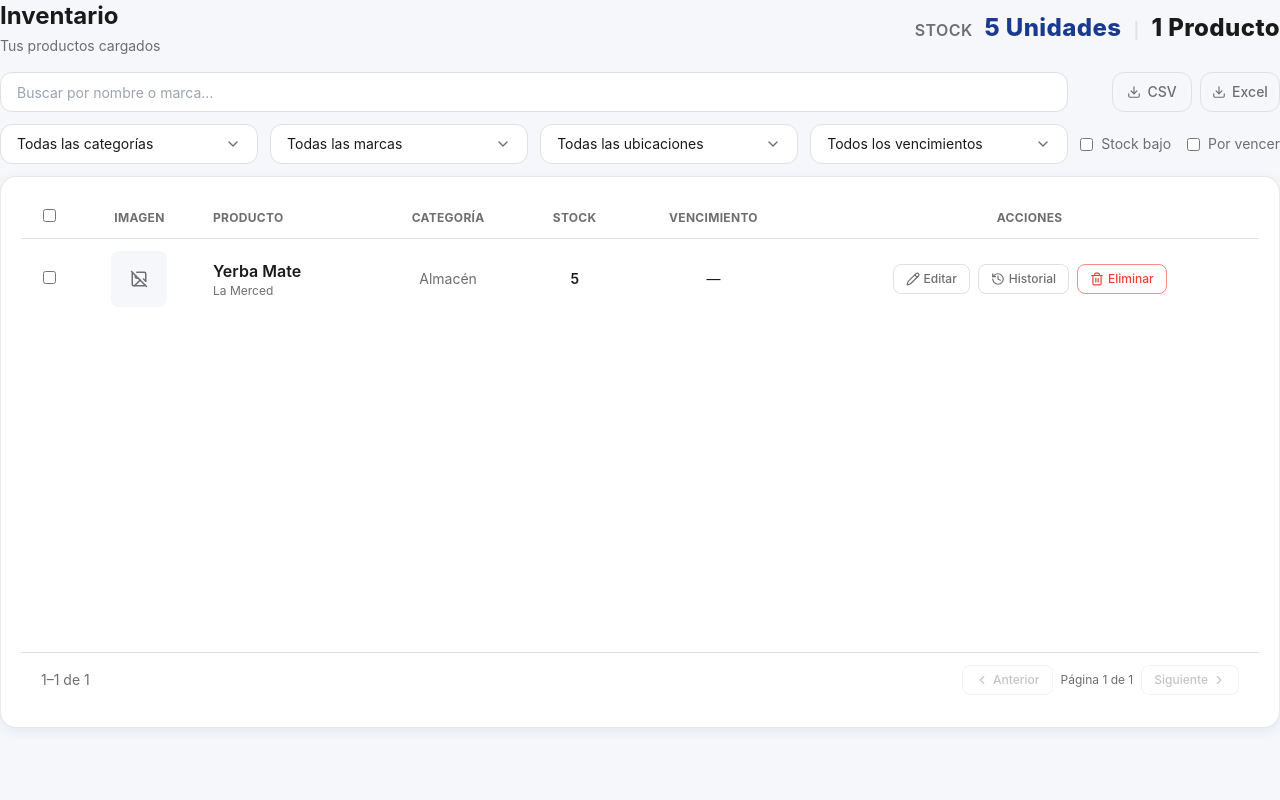
Test: MyProducts › al tocar el nombre abre la información del producto, con sus accesos
Click the button with test id "product-open-1": (257, 271) left=213, top=259, right=301, bottom=283
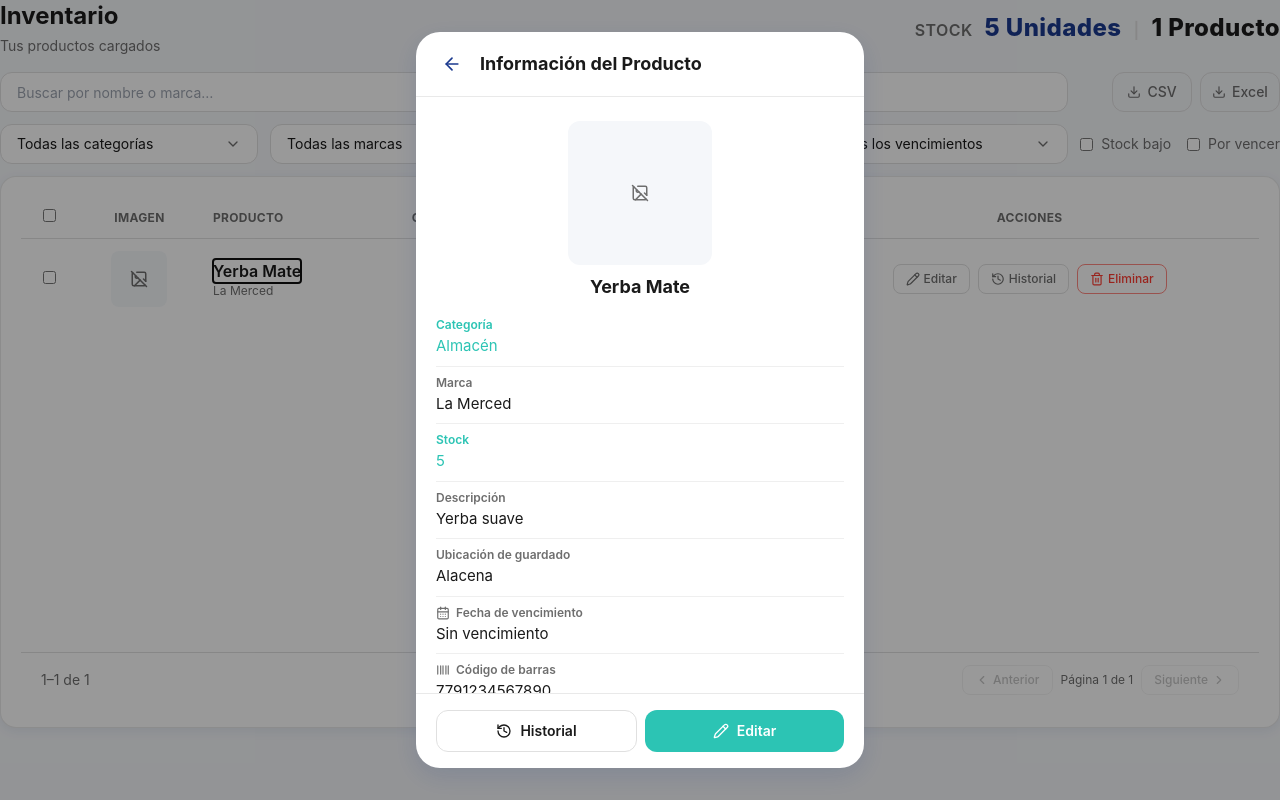
Result: the heading with test id "product-detail-name" reads "Yerba Mate" at left=590, top=276, right=690, bottom=297
Result: the text "Yerba suave" is shown at left=436, top=508, right=524, bottom=528
Click the button "Editar": (744, 731) left=645, top=710, right=844, bottom=752
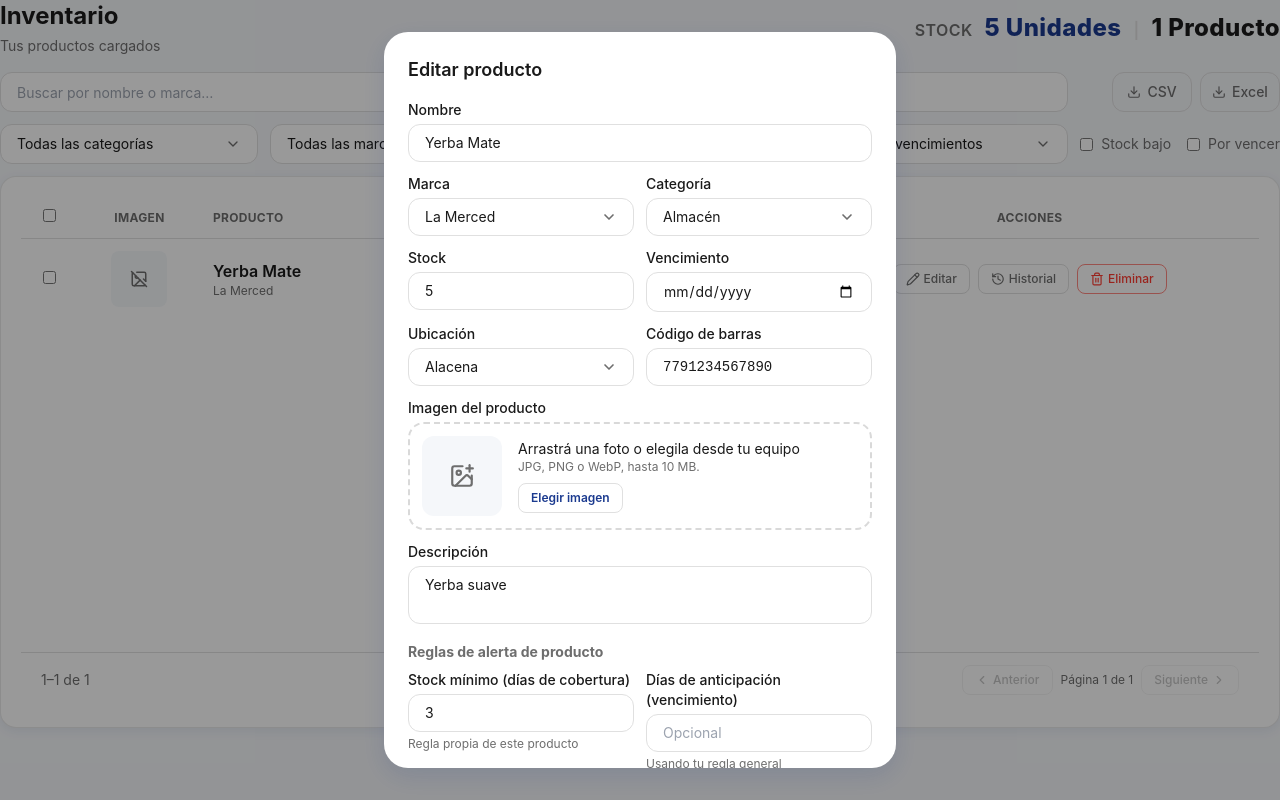
Result: the heading "Editar producto" is shown at left=408, top=59, right=542, bottom=80
